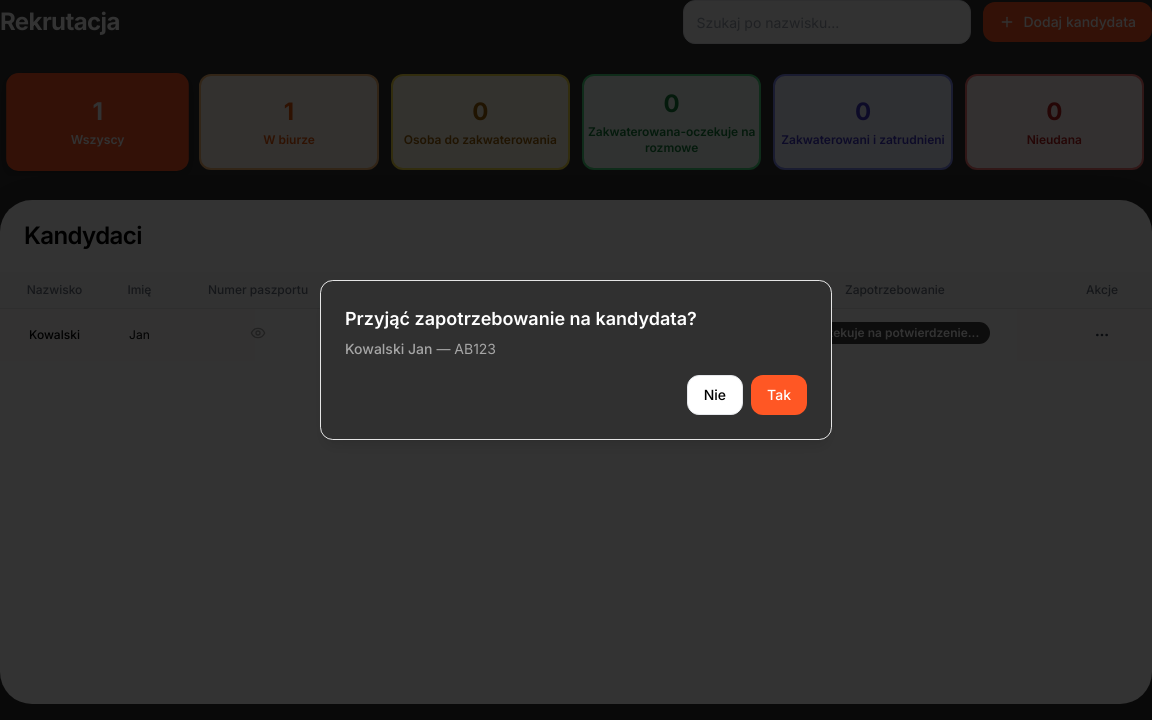
Test: RecruitmentView › rejecting demand opens "are you sure" dialog
Expected: the heading "Przyjąć zapotrzebowanie na kandydata?" is shown, [345,308,697,329]
Click the button "Nie" at (715, 395), box [687,375,743,415]
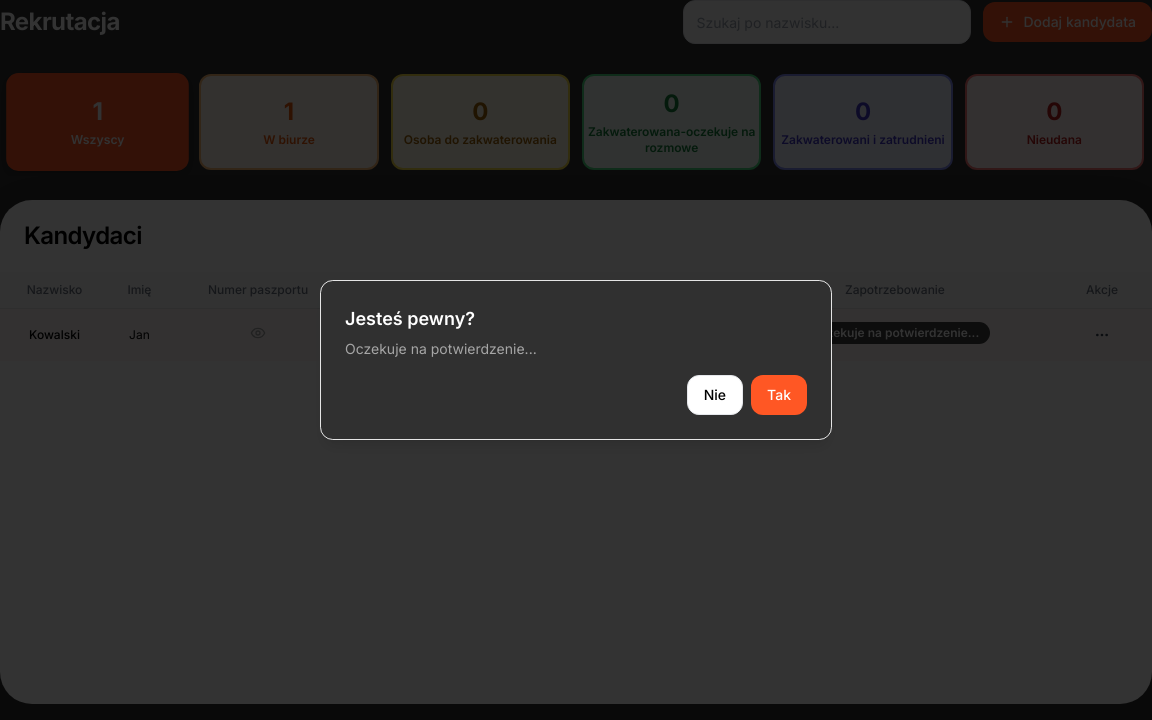
Now the heading "Jesteś pewny?" is shown, box [345,308,475,329]
